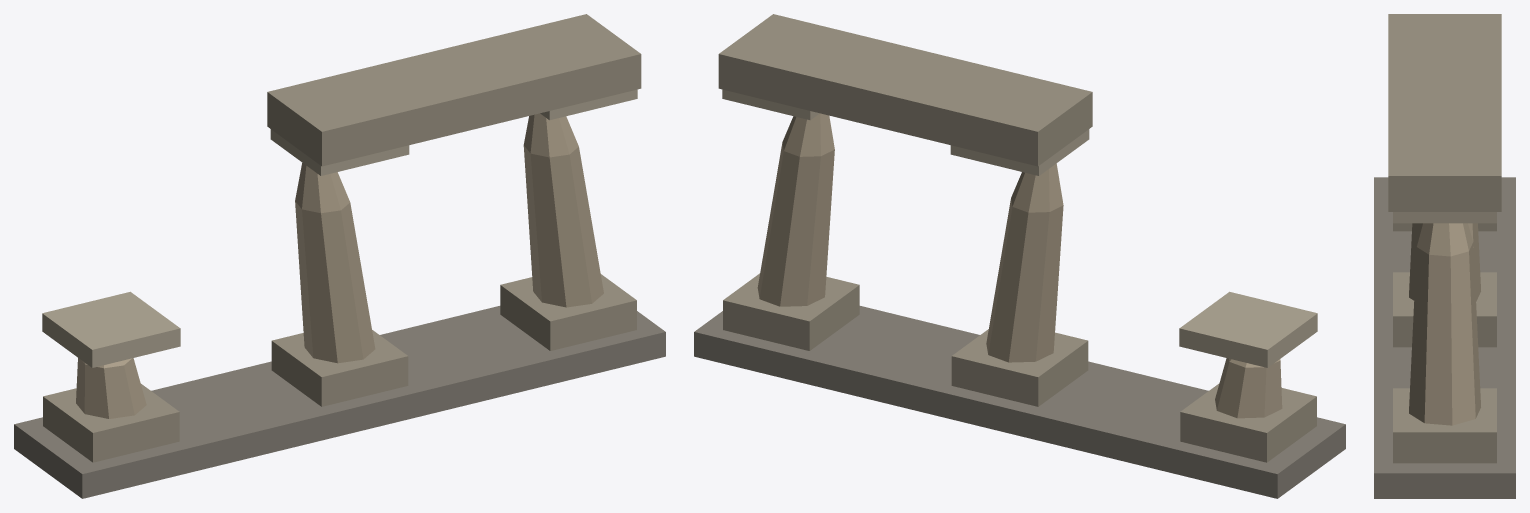
File: Dungeon_BrokenColonnade.fbx
3 renders of one model, left to right at view 1: azimuth 30°, elevation 25°; view 2: azimuth 150°, elevation 25°; view 3: azimuth 270°, elevation 25°, orthographic. The views are drawn at different scales.
Parts seen in each view (by area): view 1: Dungeon_BrokenColonnade; view 2: Dungeon_BrokenColonnade; view 3: Dungeon_BrokenColonnade.
Part boxes in pixels (x1,y1,x2,y2): Dungeon_BrokenColonnade: [14, 14, 665, 498]; Dungeon_BrokenColonnade: [694, 14, 1345, 498]; Dungeon_BrokenColonnade: [1374, 14, 1515, 498].
Size of the model in its own units: 7.4 by 3.66 by 1.5.
